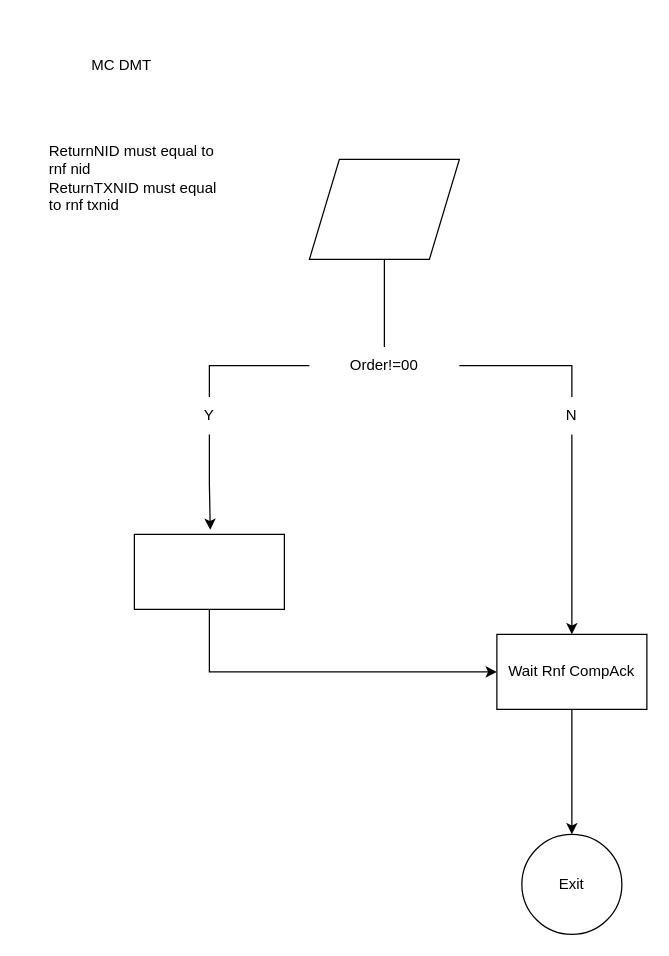
Some shapes in this 669 by 956 pixel diagram are drawn without their labels. Here are the shapes that lost their labels. From the top down, the centre of each, then its label:
At pixel 383 208: "TX ReadNoSnp".
At pixel 208 571: "Wait ReadReceipt".
